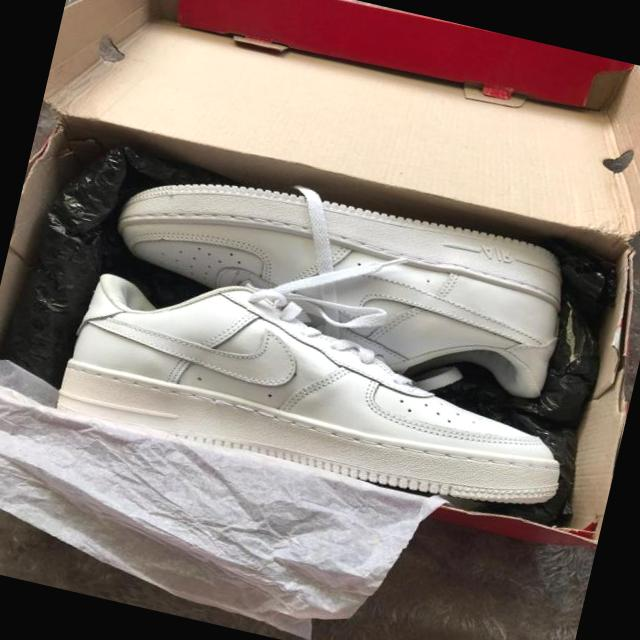nike_fake_airforce: (19, 240, 588, 534), (96, 148, 594, 408)
